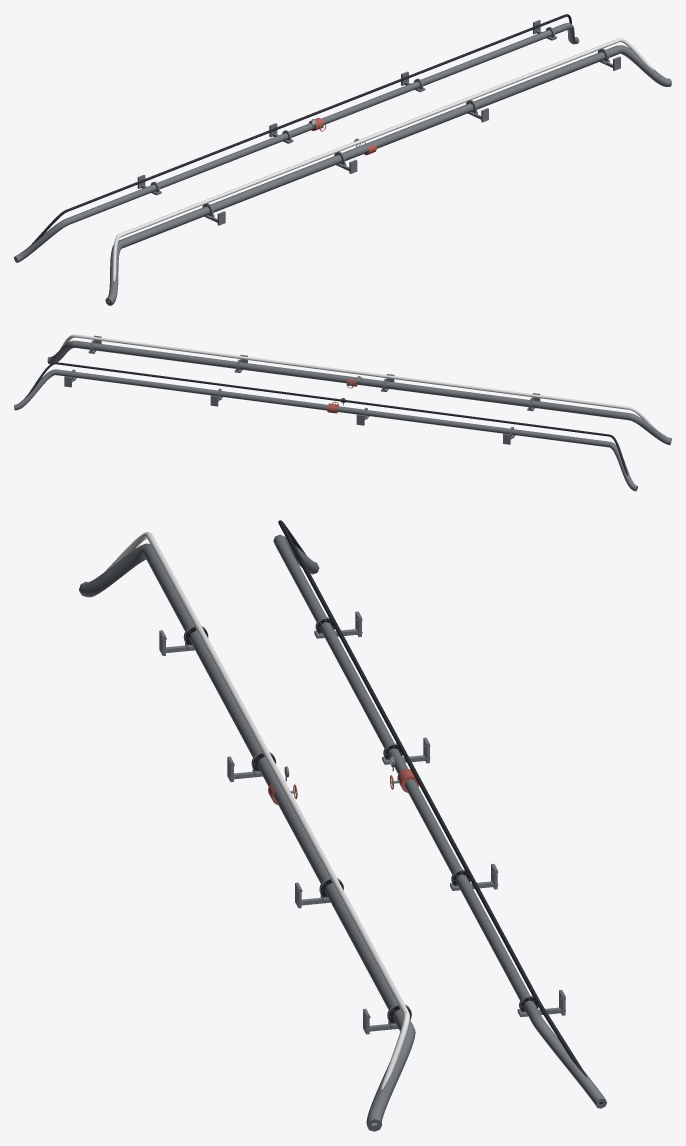
Rendered from BD_T14_UpperProcessLines.fbx.
3 views of the same model, one above another, from view 1: azimuth 30°, elevation 25°; view 2: azimuth 150°, elevation 25°; view 3: azimuth 270°, elevation 25° (orthographic). The views are drawn at different scales.
Parts seen in each view (by area): view 1: BD_T14_UpperProcessLines; view 2: BD_T14_UpperProcessLines; view 3: BD_T14_UpperProcessLines.
Part boxes in pixels (left/top/right/bottom): BD_T14_UpperProcessLines: left=14, top=14, right=671, bottom=305; BD_T14_UpperProcessLines: left=14, top=334, right=671, bottom=491; BD_T14_UpperProcessLines: left=79, top=520, right=606, bottom=1131.
Size of the model in its own units: 2595 by 189 by 1036.
